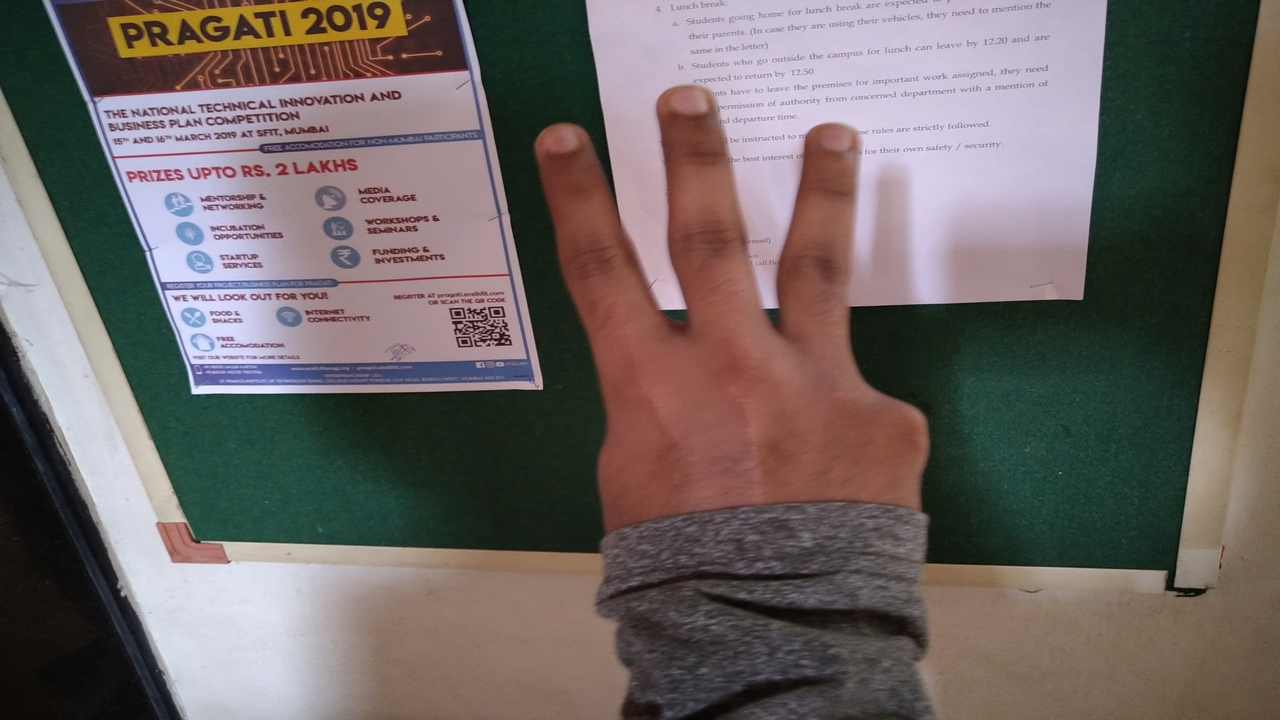fingertip: (526, 116, 598, 174), (654, 84, 722, 138), (802, 120, 866, 172)
